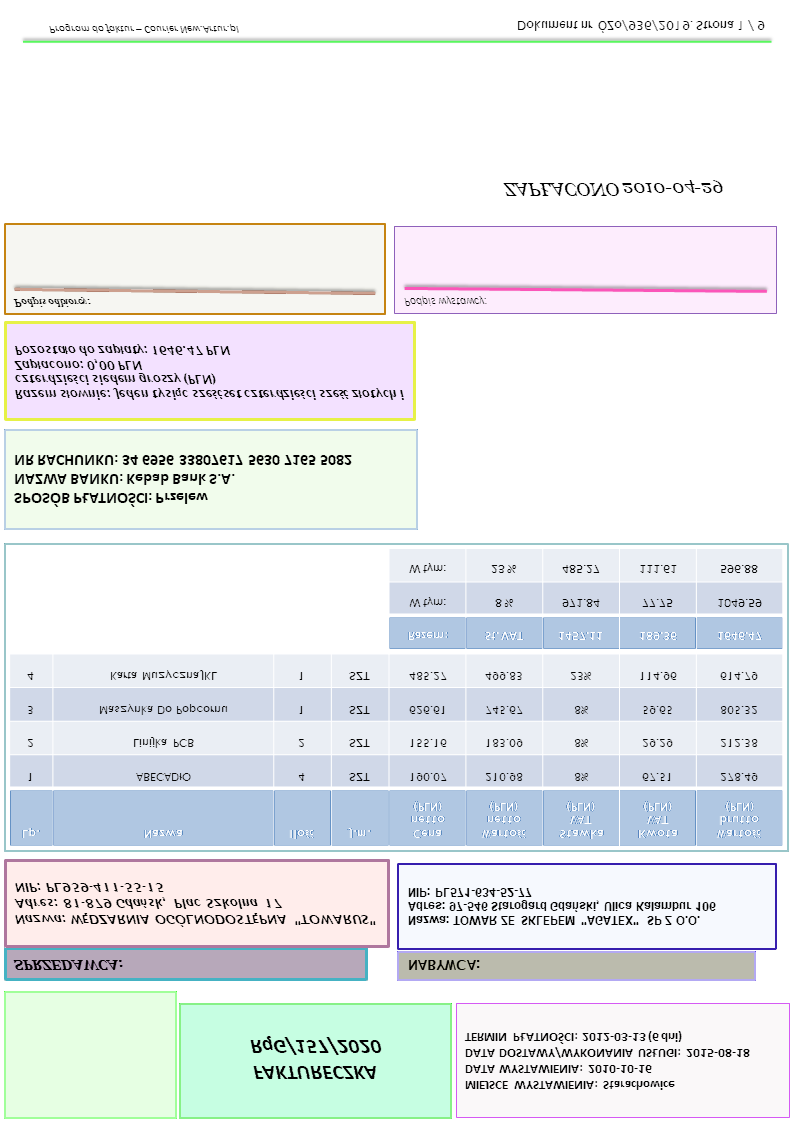Table: (8, 654, 783, 848), (387, 549, 784, 650)
TextBox: (11, 342, 407, 403), (10, 450, 355, 508), (462, 1030, 752, 1092), (11, 880, 377, 928), (405, 886, 717, 928), (247, 1032, 383, 1083), (501, 176, 725, 200), (515, 17, 766, 33), (45, 21, 241, 37), (10, 957, 124, 973), (405, 955, 482, 974), (402, 294, 488, 309), (11, 296, 93, 311)
